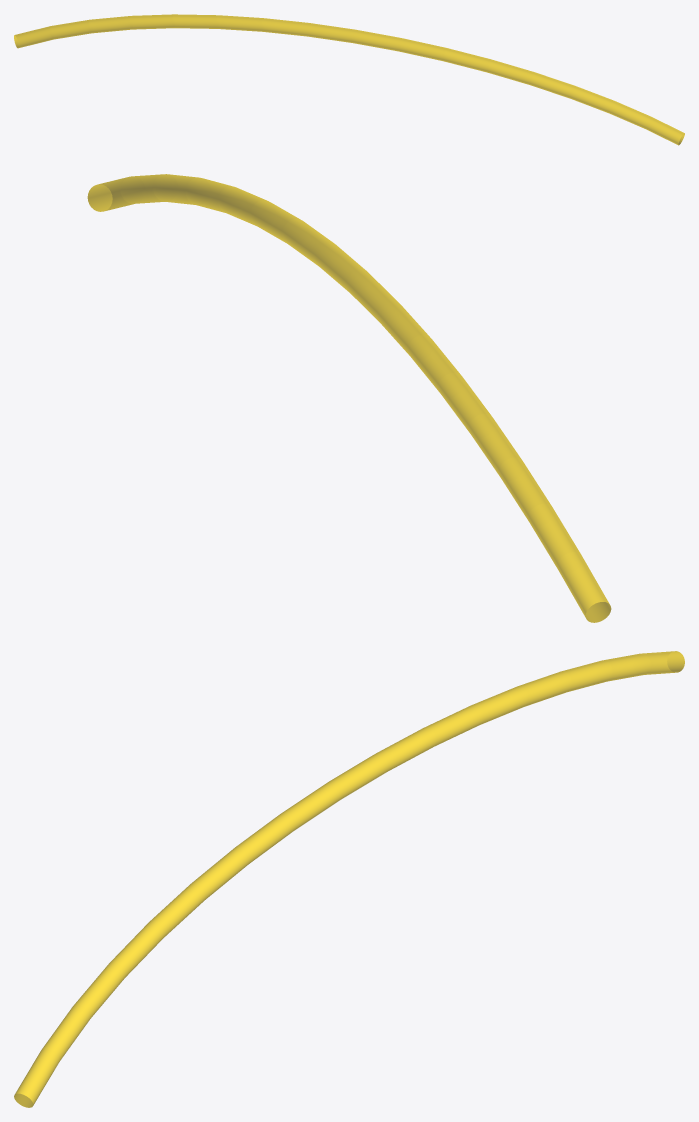
File: Event_75125125_track_95.fbx
The picture shows the model from 3 angles, top to bottom: view 1: azimuth 30°, elevation 25°; view 2: azimuth 150°, elevation 25°; view 3: azimuth 270°, elevation 25°; orthographic projection. The views are drawn at different scales.
Visible parts, largest first — view 1: Model; view 2: Model; view 3: Model.
Boxes of the visible parts, box(x1,y1,x2,y2) form: Model: box(14, 14, 684, 145); Model: box(87, 174, 611, 622); Model: box(14, 651, 684, 1107).
Bounding box in the file's own units: 1.55 × 0.3253 × 1.23.
